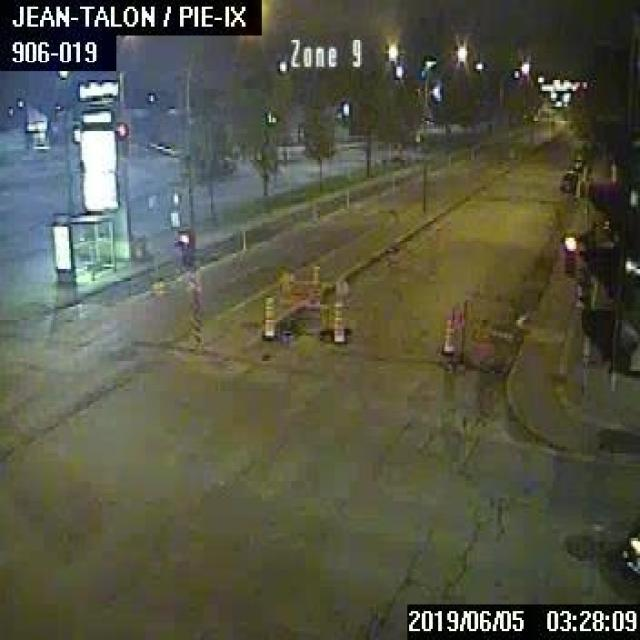construction: (272, 264, 348, 340), (450, 300, 513, 376), (259, 293, 275, 336), (331, 300, 344, 342), (442, 318, 454, 355)
vehicle: (622, 514, 638, 578), (559, 170, 577, 191), (572, 155, 582, 169)
